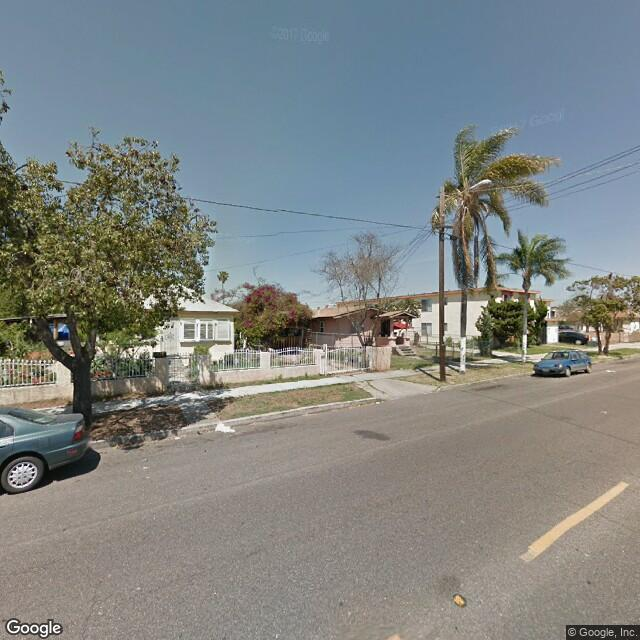litter: (200, 414, 248, 443)
